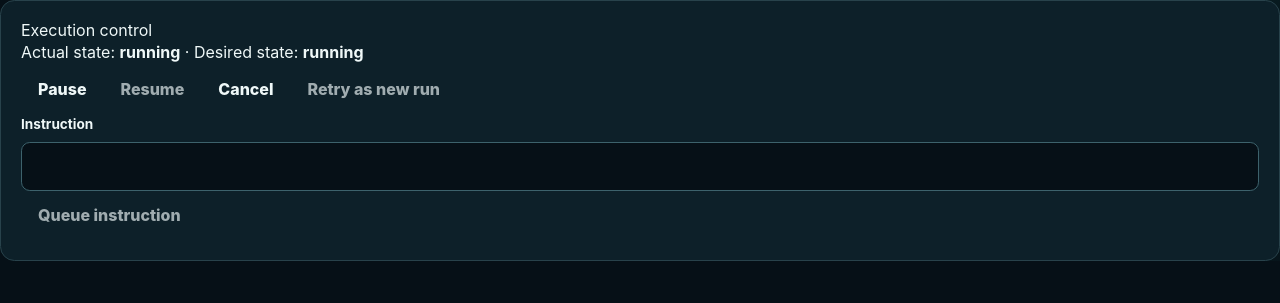
Test: refreshes a raced run version once while preserving command identity
Click the button "Cancel": (246, 90) [201, 65, 290, 114]
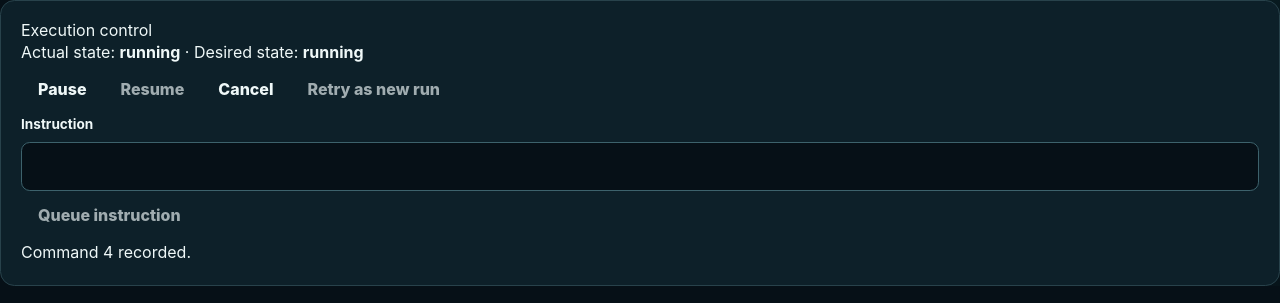
Result: the text "Command 4 recorded." is shown at [21, 242, 191, 262]
